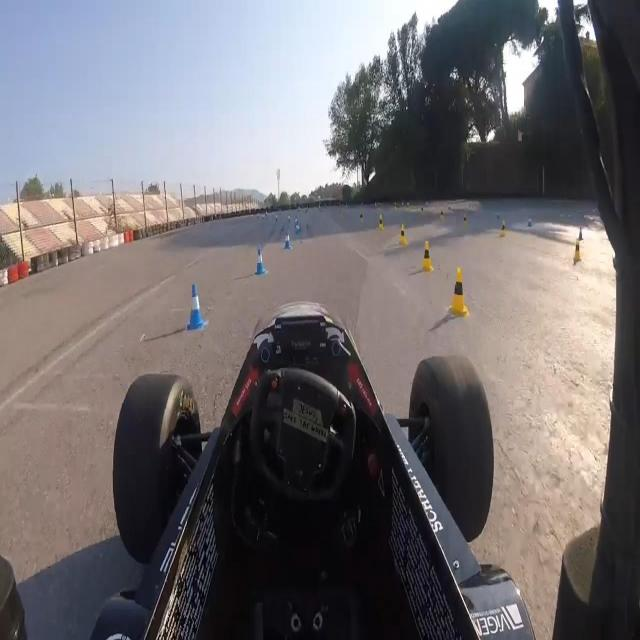blue_cone: (185, 282, 206, 332), (255, 247, 266, 276), (283, 230, 292, 253), (577, 226, 583, 241), (294, 224, 300, 236), (527, 216, 532, 228), (294, 216, 298, 225), (287, 213, 291, 222), (275, 214, 278, 222)
yellow_cone: (449, 268, 467, 318), (421, 239, 434, 272), (572, 238, 580, 263), (399, 226, 407, 247), (499, 220, 507, 238), (378, 215, 384, 230), (464, 213, 468, 227)
